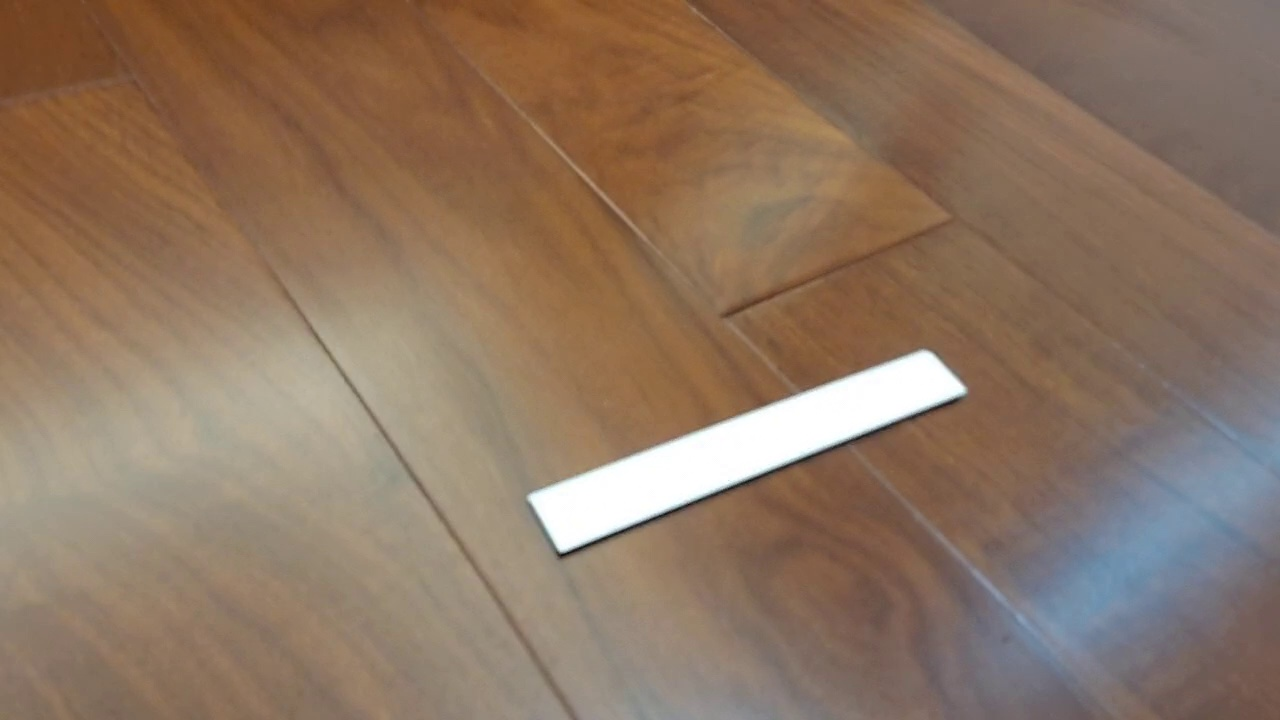ruler: (525, 348, 968, 560)
